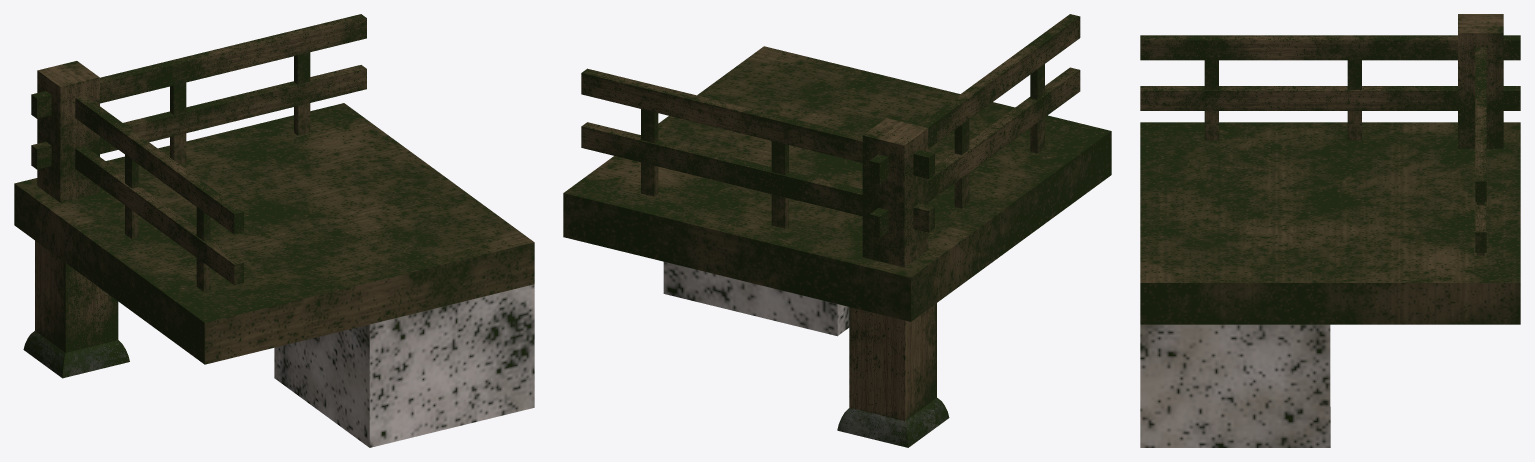
The model's file is shrine_floor_outside_corner_03.fbx.
3 views of the same model, side by side, from view 1: azimuth 30°, elevation 25°; view 2: azimuth 150°, elevation 25°; view 3: azimuth 270°, elevation 25° (orthographic). The views are drawn at different scales.
Visible parts, largest first — view 1: shrine_floor_outside_corner_03; view 2: shrine_floor_outside_corner_03; view 3: shrine_floor_outside_corner_03.
Part boxes in pixels (bbox=[...]): shrine_floor_outside_corner_03: bbox=[14, 14, 534, 447]; shrine_floor_outside_corner_03: bbox=[563, 14, 1111, 447]; shrine_floor_outside_corner_03: bbox=[1140, 14, 1520, 447].
Bounding box in the file's own units: 165 × 134 × 165.
Materials: 1 (1 with a texture image).
